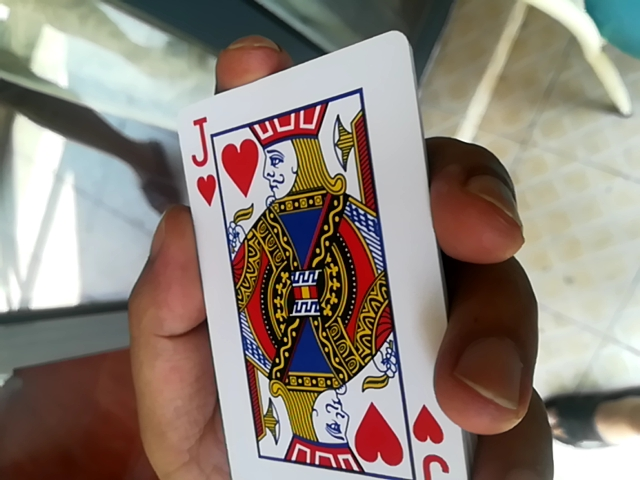hx j: (178, 33, 454, 474)
